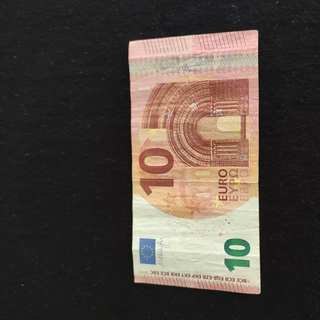10EUROFront: (128, 29, 261, 295)
